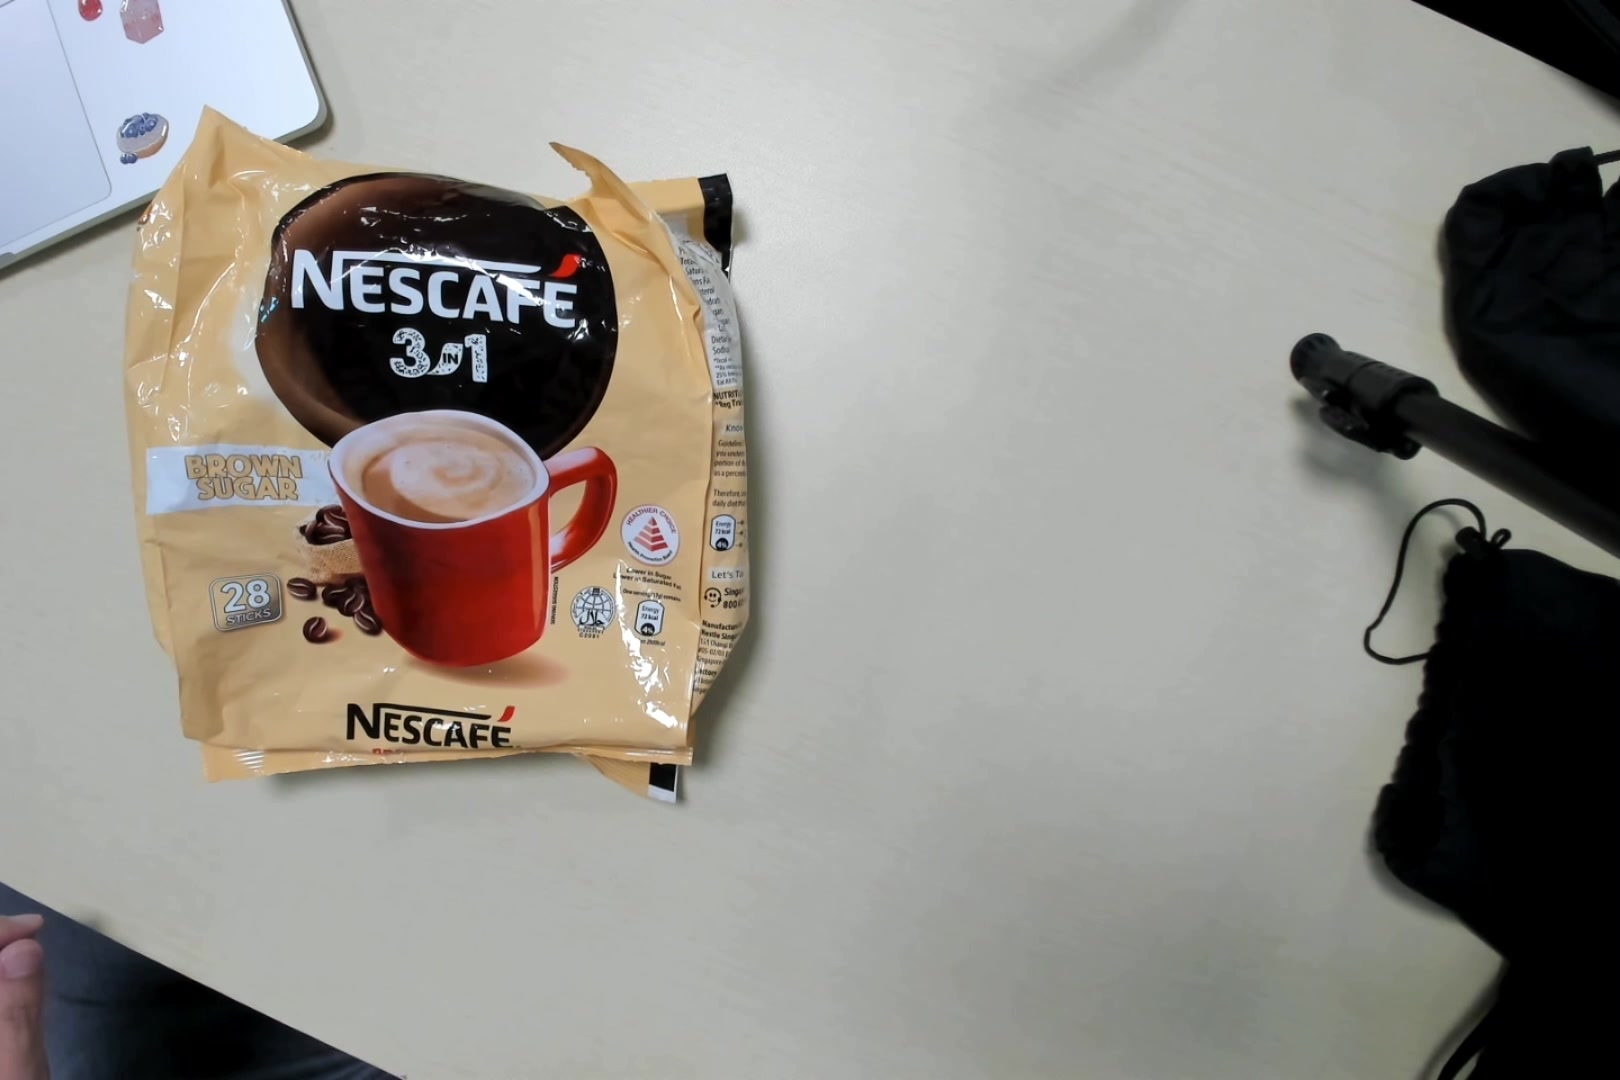Coffee(Powder)_500-599g_Halal_Healthy: (129, 111, 758, 814)
